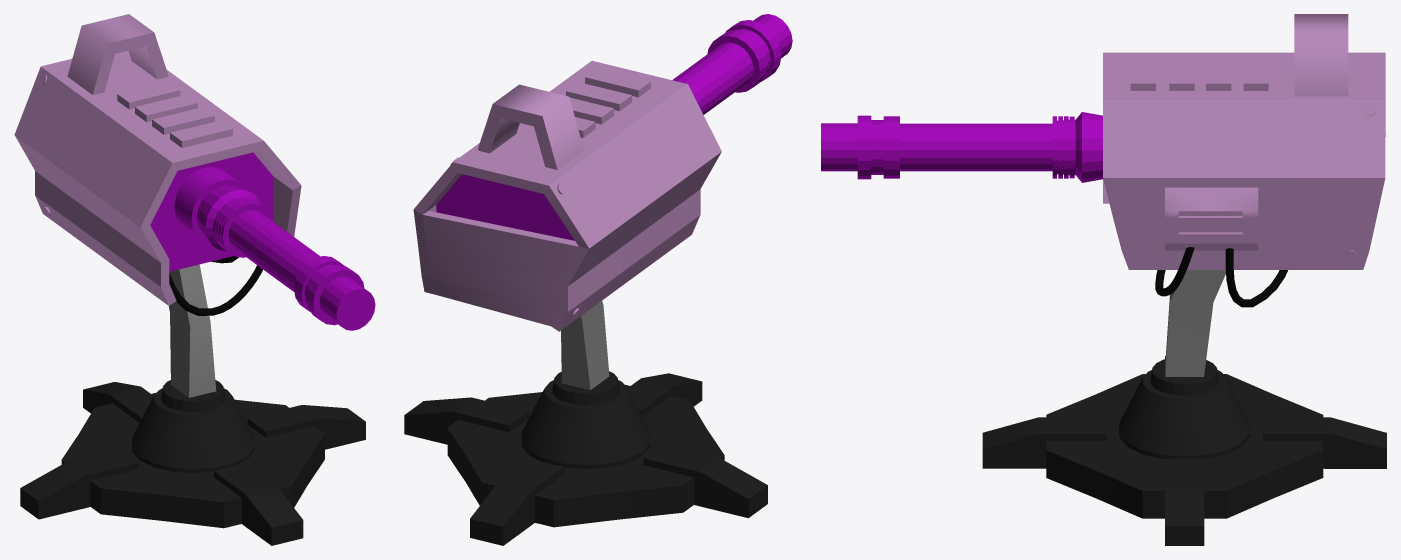
Rendered from TbasicaUNITY2.fbx.
3 views of the same model, side by side, from view 1: azimuth 30°, elevation 25°; view 2: azimuth 150°, elevation 25°; view 3: azimuth 270°, elevation 25° (orthographic). The views are drawn at different scales.
Parts seen in each view (by area): view 1: Object013, FINAL; view 2: Object013, FINAL; view 3: Object013, FINAL.
Boxes of the visible parts, <box> form: Object013: <box>14,14,375,397</box>; FINAL: <box>20,380,365,545</box>; Object013: <box>413,14,792,390</box>; FINAL: <box>404,371,767,545</box>; Object013: <box>821,14,1385,376</box>; FINAL: <box>982,355,1386,545</box>.
Bounding box in the file's own units: 35.82 × 50.11 × 41.85.
